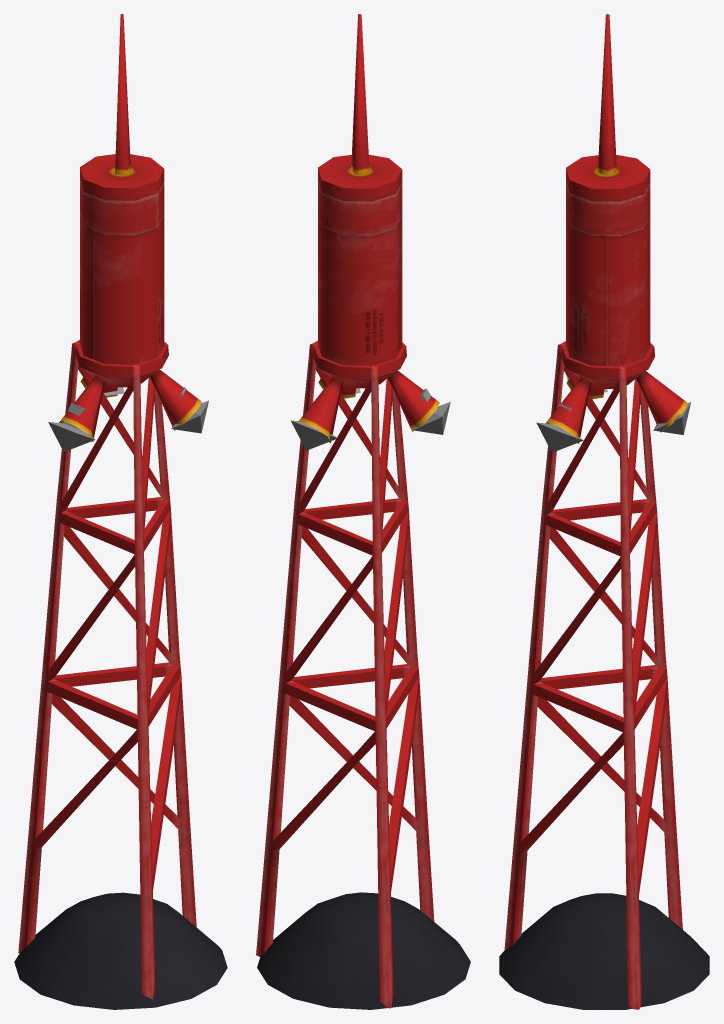
The model's file is Mercury_LES.FBX.
3 views of the same model, side by side, from view 1: azimuth 30°, elevation 25°; view 2: azimuth 150°, elevation 25°; view 3: azimuth 270°, elevation 25° (orthographic).
Visible parts, largest first — view 1: Mercury_LES, thrustTransform002, thrustTransform; view 2: Mercury_LES, thrustTransform002, thrustTransform001; view 3: Mercury_LES, thrustTransform.
Boxes of the visible parts, x1,y1,x2,y2 form: Mercury_LES: [14, 14, 227, 1009]; thrustTransform002: [48, 403, 95, 451]; thrustTransform: [171, 387, 208, 433]; Mercury_LES: [256, 14, 470, 1009]; thrustTransform002: [413, 388, 450, 434]; thrustTransform001: [291, 401, 337, 450]; Mercury_LES: [499, 14, 709, 1009]; thrustTransform: [536, 403, 583, 452].
Size of what is drawn, in the model's own units: 34.97 by 174 by 34.97.
Materials: 2 (1 with a texture image).
